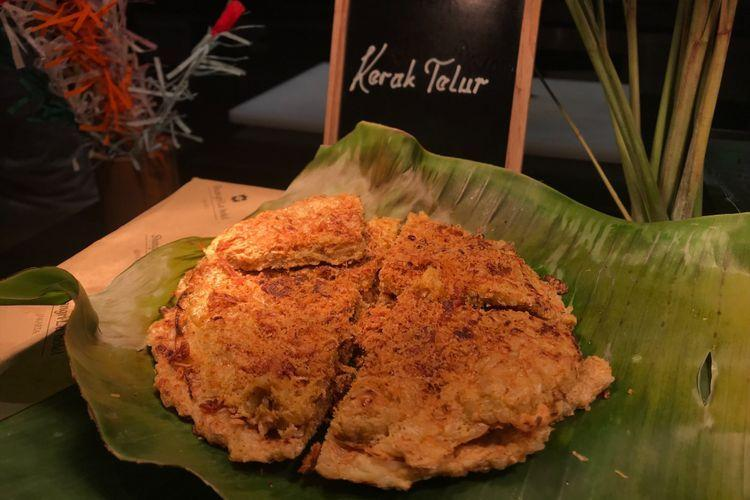telur: (236, 218, 479, 457)
